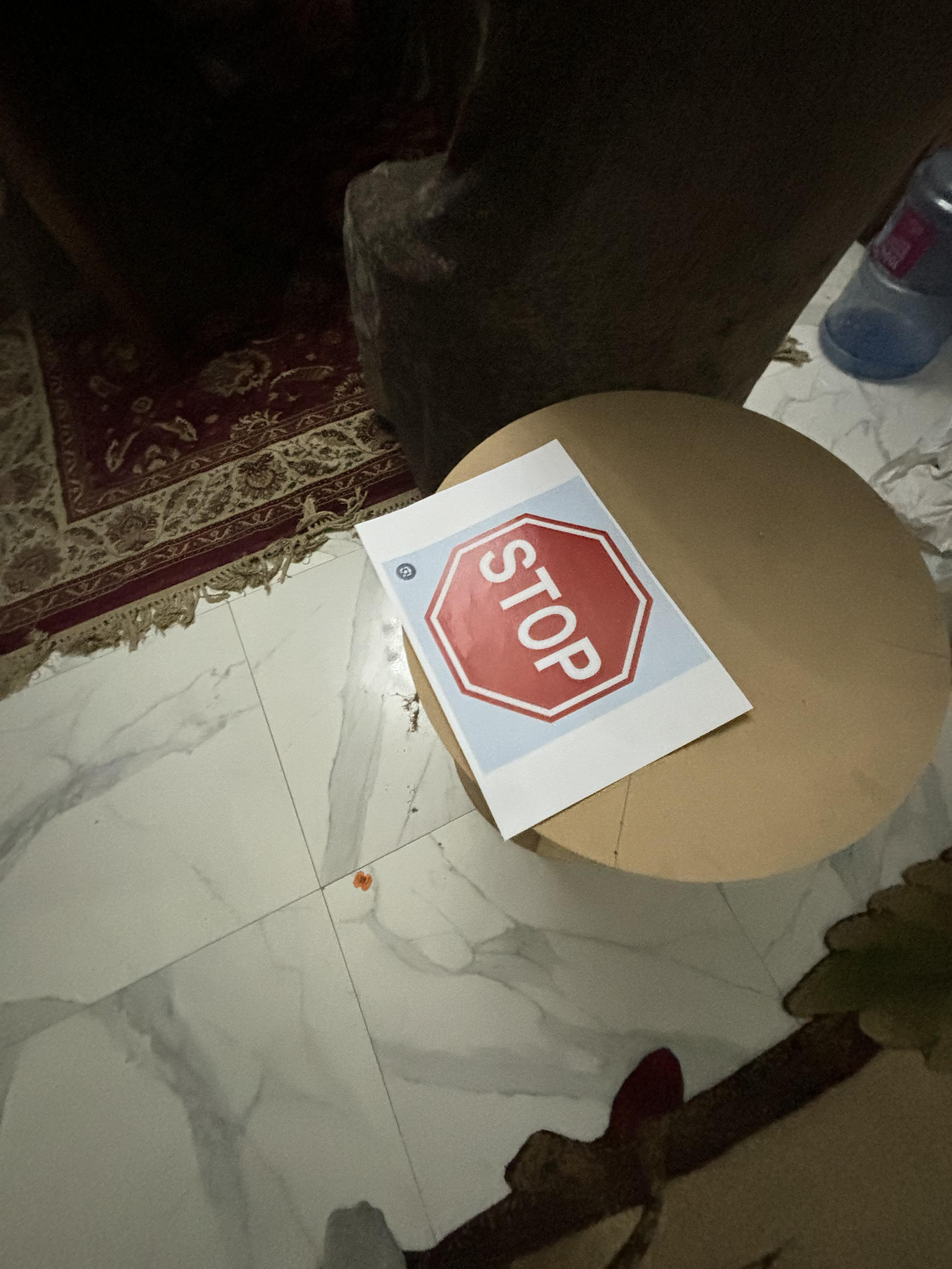Stop: (423, 509, 659, 720)
